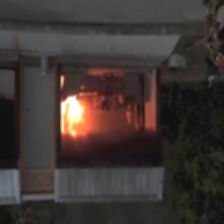fire: (55, 94, 89, 148)
